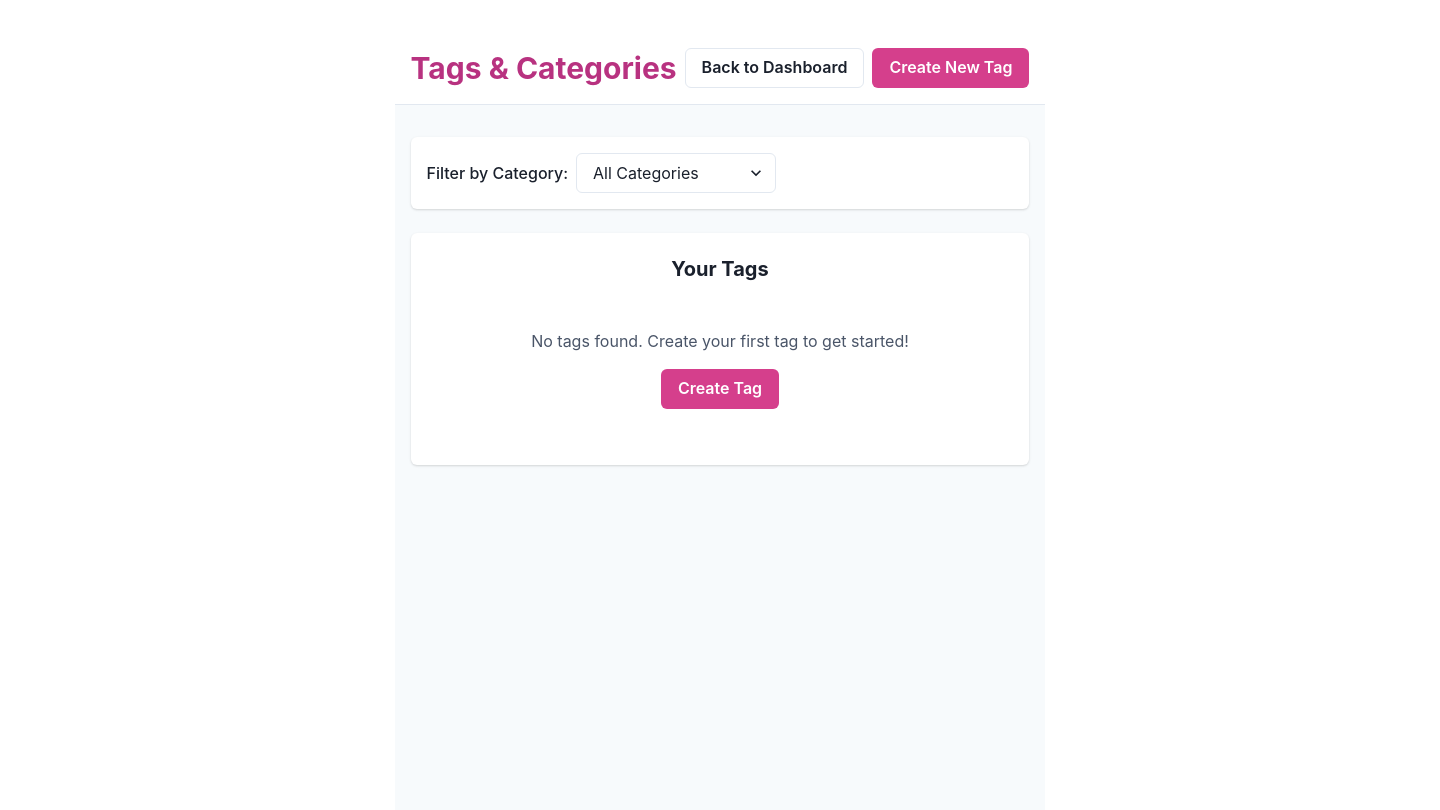
Tags page › creates a tag through the modal and shows a success toast
Expected: the text "No tags found. Create your first tag to get started!" is shown, [531, 331, 909, 351]
Click the button "Create New Tag": (951, 68) [872, 48, 1029, 88]
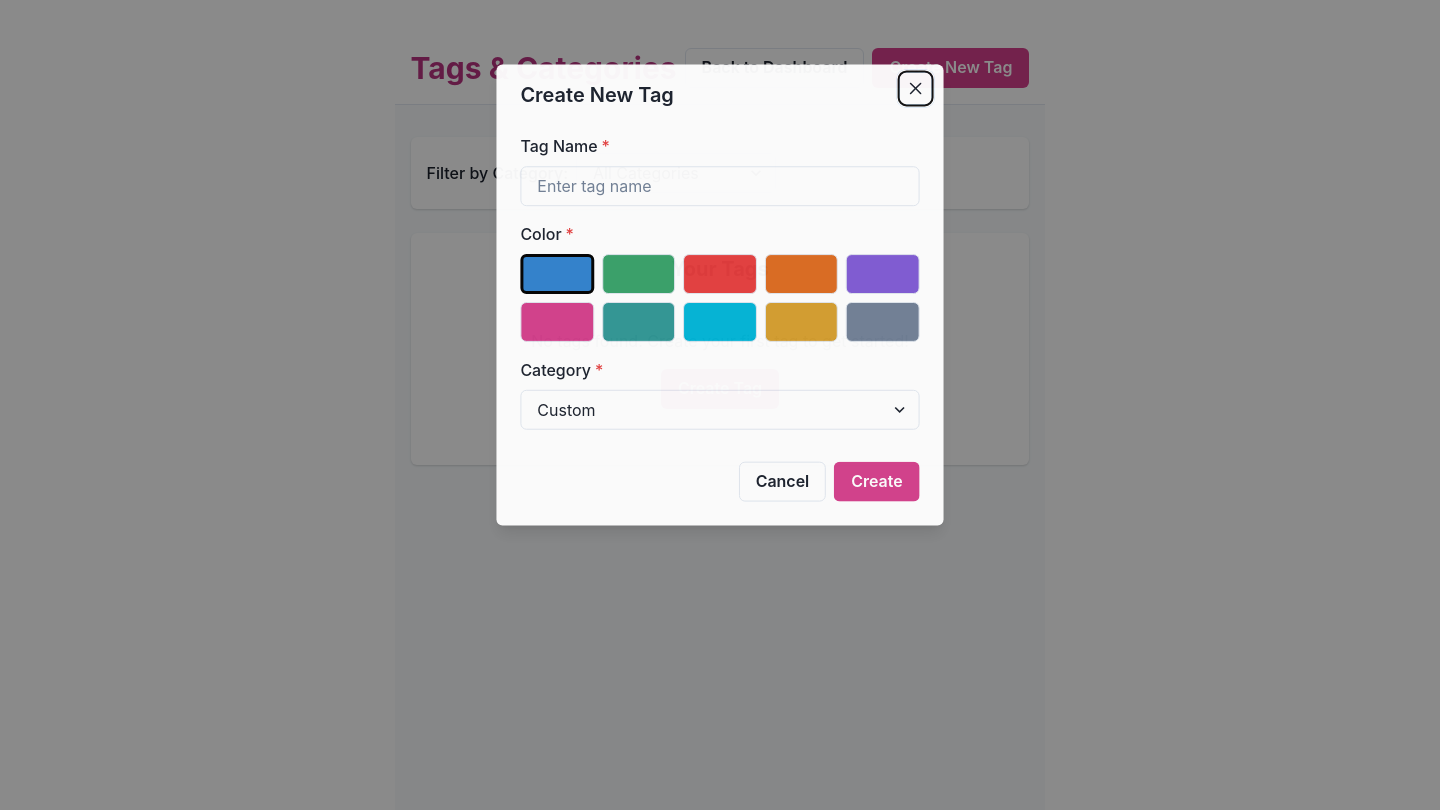
In the field with placeholder "Enter tag name": (720, 186) [520, 166, 920, 206], type "Backend"
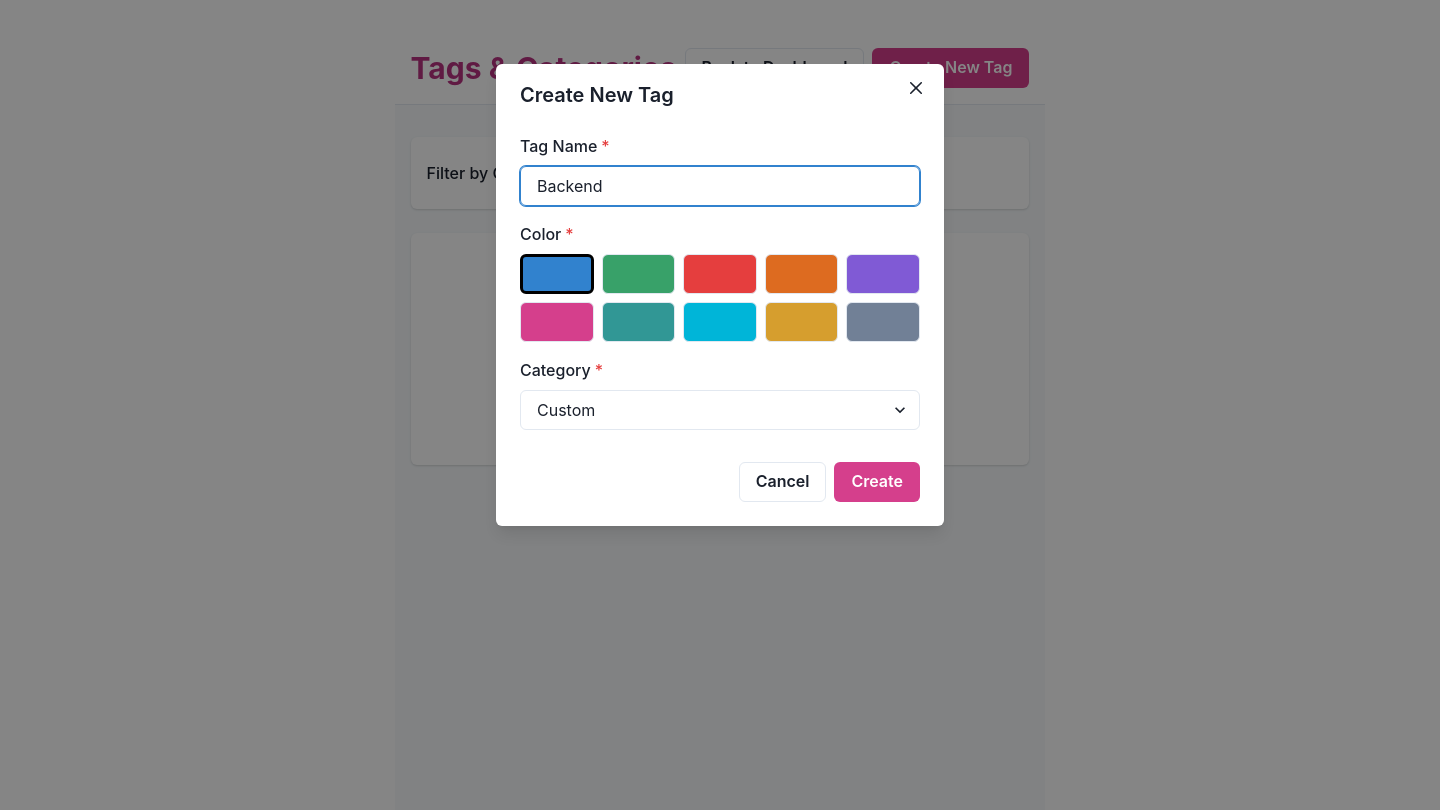
Click the button "Create": (877, 482) [834, 462, 920, 502]
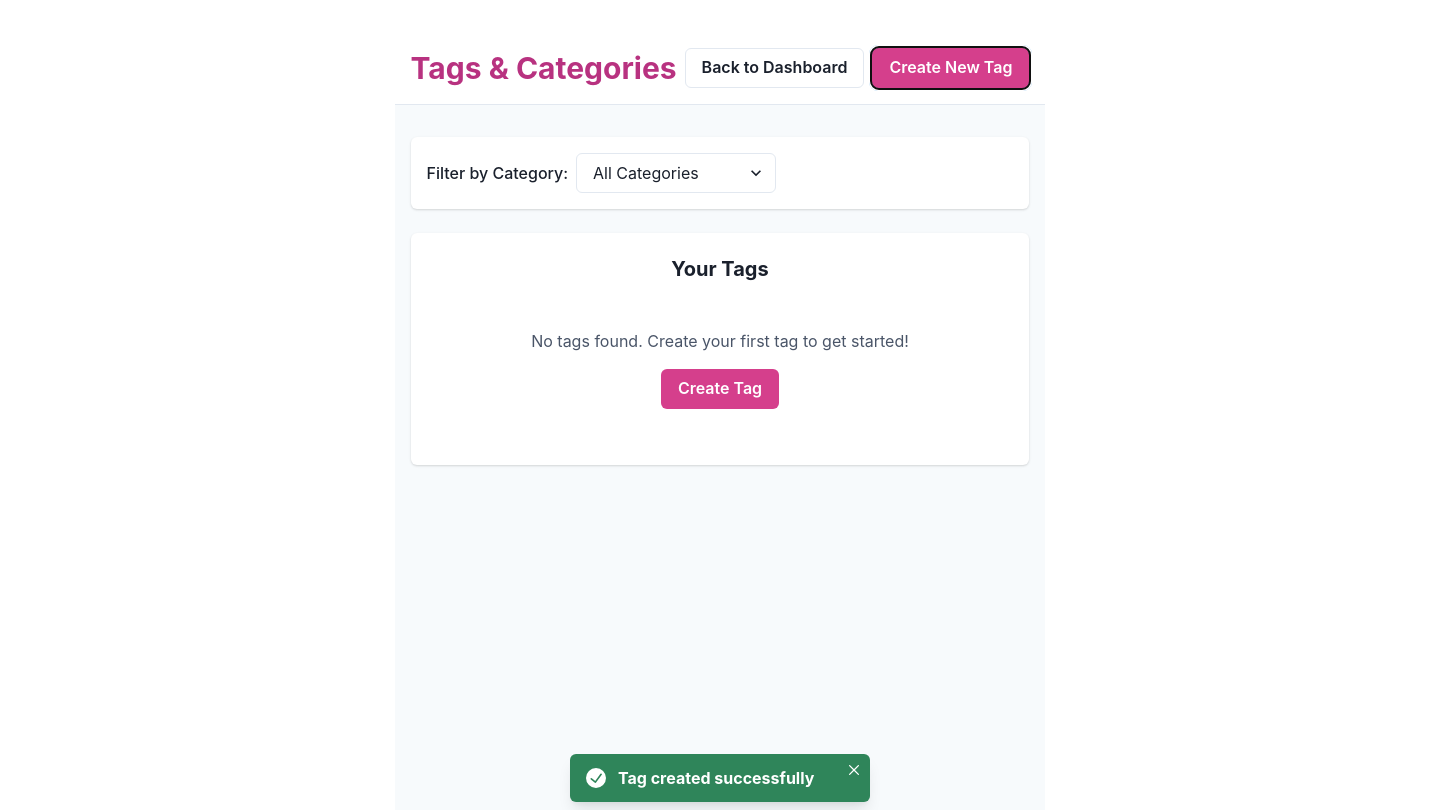
Expected: the text "Tag created successfully" is shown, [618, 766, 830, 790]
